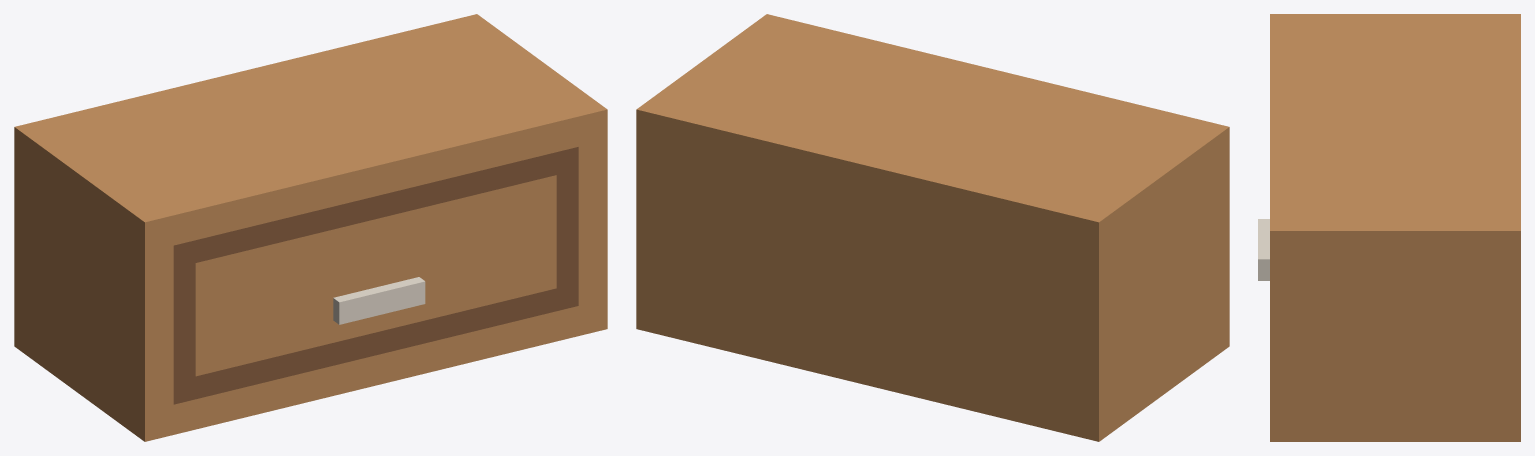
The model's file is kitKitchenCabinetUpperLow.glb.
3 views of the same model, side by side, from view 1: azimuth 30°, elevation 25°; view 2: azimuth 150°, elevation 25°; view 3: azimuth 270°, elevation 25° (orthographic). The views are drawn at different scales.
Visible parts, largest first — view 1: kitKitchenCabinetUpperLow_wood, kitKitchenCabinetUpperLow_woodDark, kitKitchenCabinetUpperLow_metal; view 2: kitKitchenCabinetUpperLow_wood; view 3: kitKitchenCabinetUpperLow_wood, kitKitchenCabinetUpperLow_metal.
Part boxes in pixels (left/top/right/bottom): kitKitchenCabinetUpperLow_wood: left=14, top=14, right=607, bottom=441; kitKitchenCabinetUpperLow_woodDark: left=173, top=147, right=578, bottom=404; kitKitchenCabinetUpperLow_metal: left=333, top=277, right=425, bottom=324; kitKitchenCabinetUpperLow_wood: left=636, top=14, right=1229, bottom=441; kitKitchenCabinetUpperLow_wood: left=1270, top=14, right=1520, bottom=441; kitKitchenCabinetUpperLow_metal: left=1258, top=219, right=1269, bottom=280.
Bounding box in the file's own units: 0.86 × 0.39 × 0.44.
